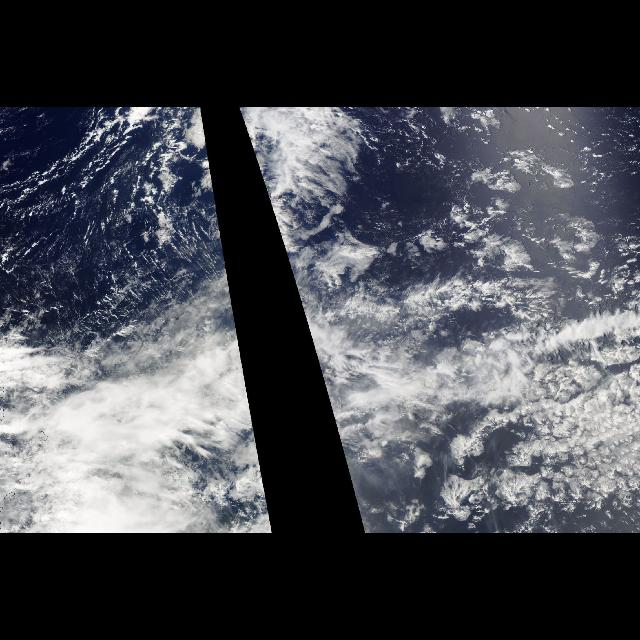Flower: (385, 168, 639, 532)
Sugar: (9, 170, 201, 322)
